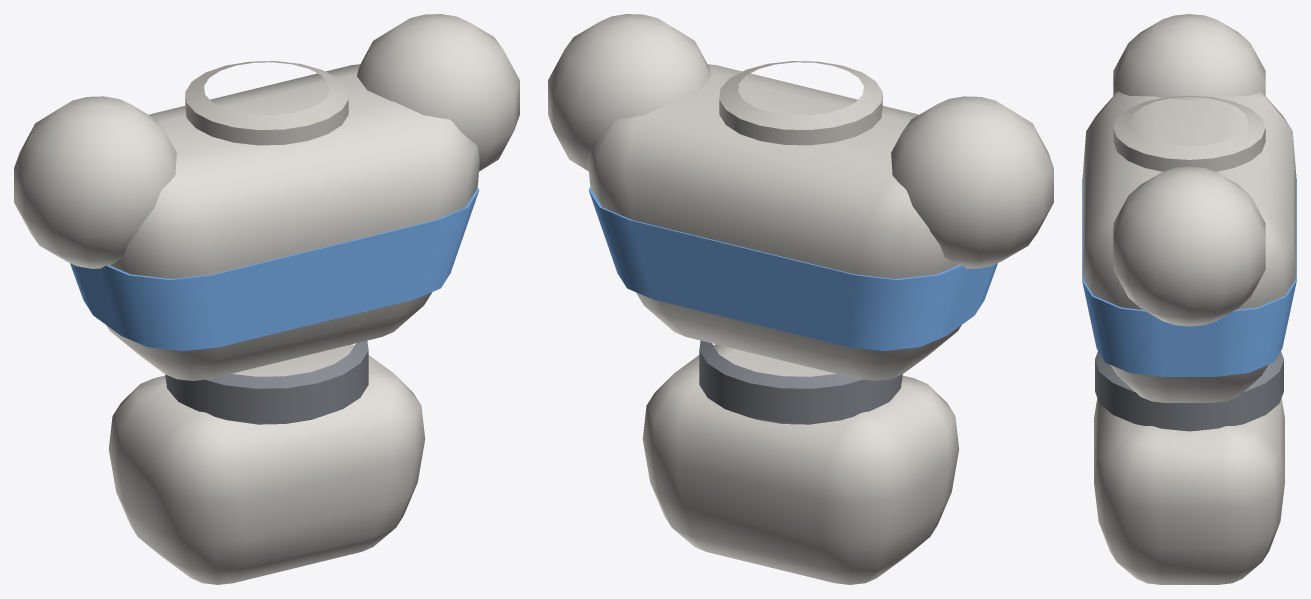
Rendered from mannequin_Torso.glb.
3 views of the same model, side by side, from view 1: azimuth 30°, elevation 25°; view 2: azimuth 150°, elevation 25°; view 3: azimuth 270°, elevation 25° (orthographic). The views are drawn at different scales.
Parts seen in each view (by area): view 1: Torso; view 2: Torso; view 3: Torso.
Boxes of the visible parts, x1,y1,x2,y2 form: Torso: [14, 14, 519, 584]; Torso: [548, 14, 1053, 584]; Torso: [1082, 14, 1296, 584].
Size of the model in its own units: 0.5299 by 0.514 by 0.2203.
